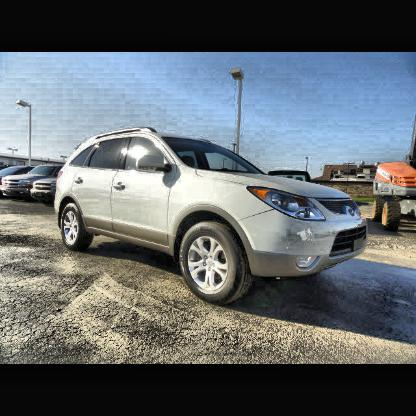Hyundai Veracruz SUV 2012: (57, 127, 369, 307)
